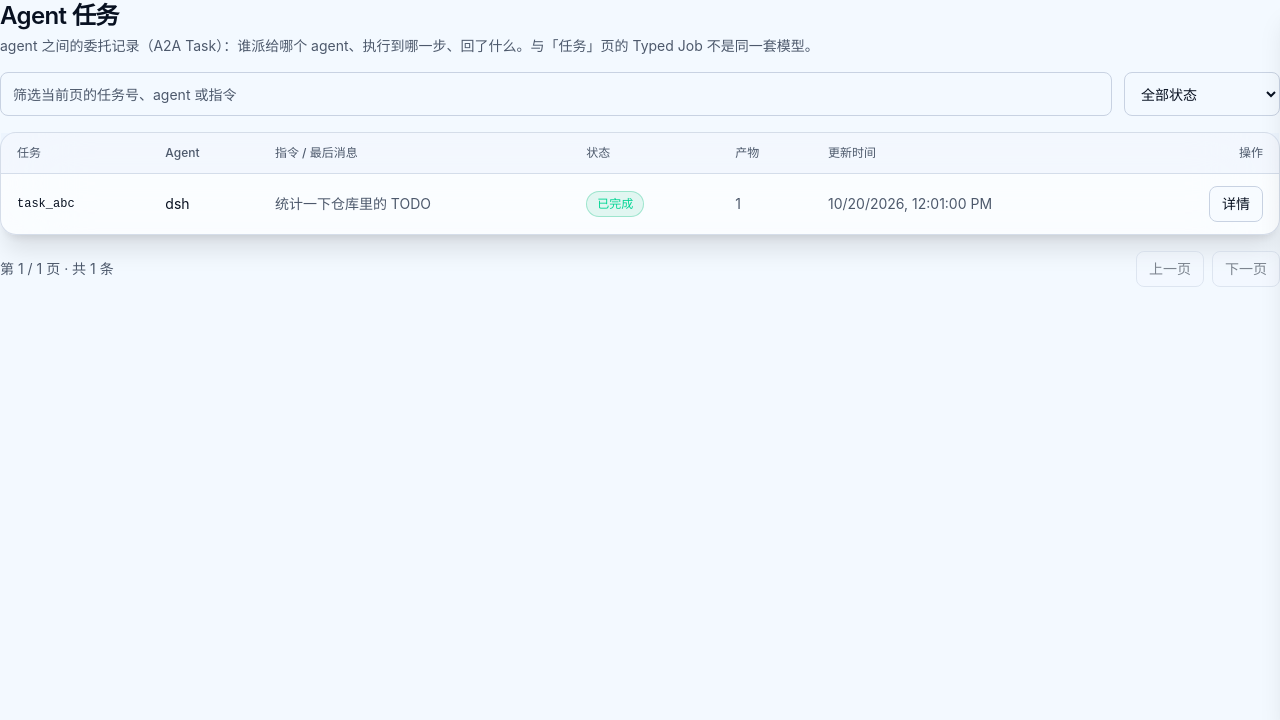
Test: AgentTasksPage › 详情抽屉回放 user 与 agent 双向正文、产物与事件
Check: the text "task_abc" is shown, box [1, 174, 149, 234]
Click the button "详情".
click(1236, 204)  # box [1209, 186, 1263, 222]
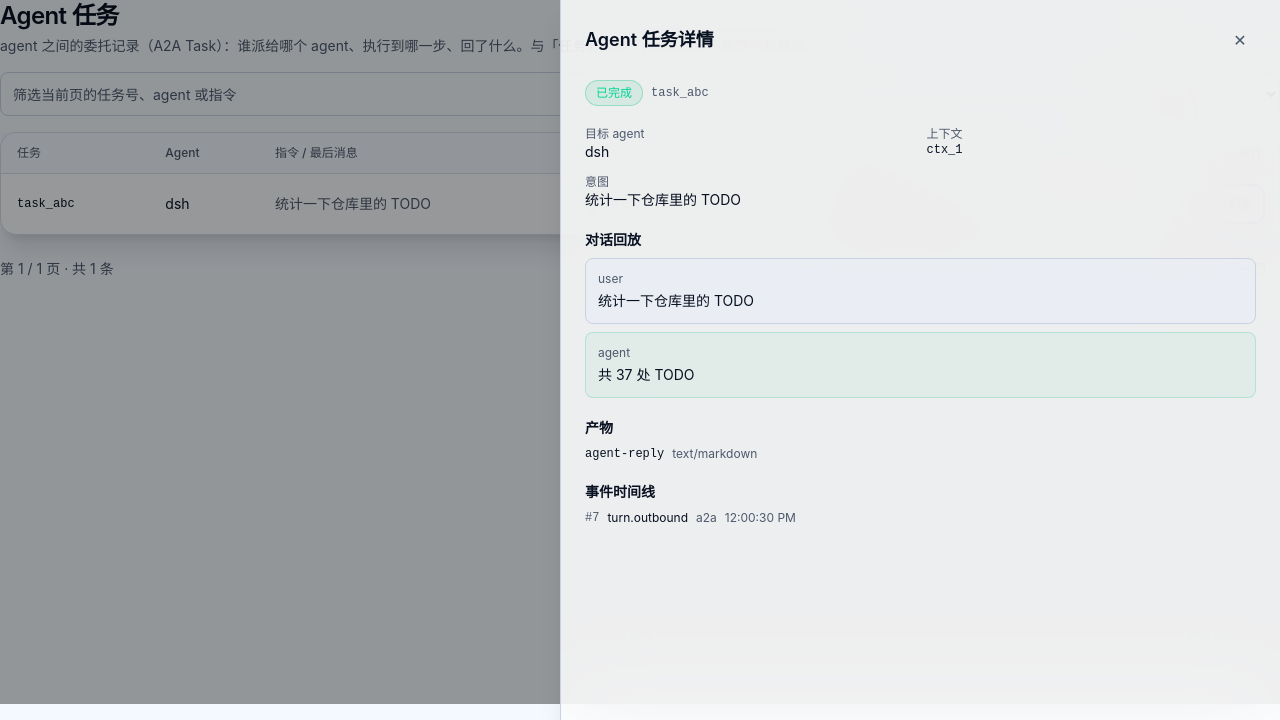
Check: the text "共 37 处 TODO" is shown, box [598, 366, 694, 383]
Check: the text "agent-reply" is shown, box [585, 446, 664, 462]
Check: the text "turn.outbound" is shown, box [607, 510, 688, 526]
